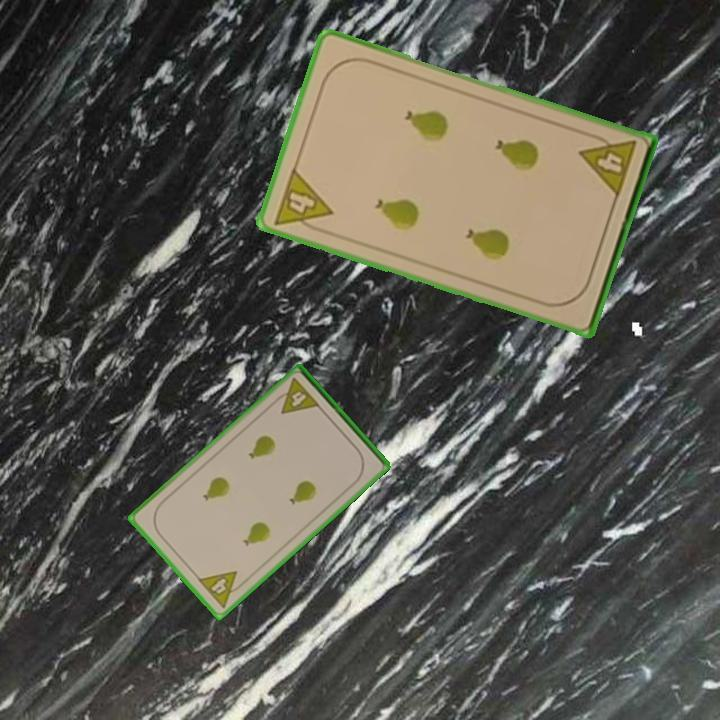4p: (270, 164, 336, 238), (576, 129, 639, 201), (194, 567, 249, 611), (270, 374, 323, 417)
